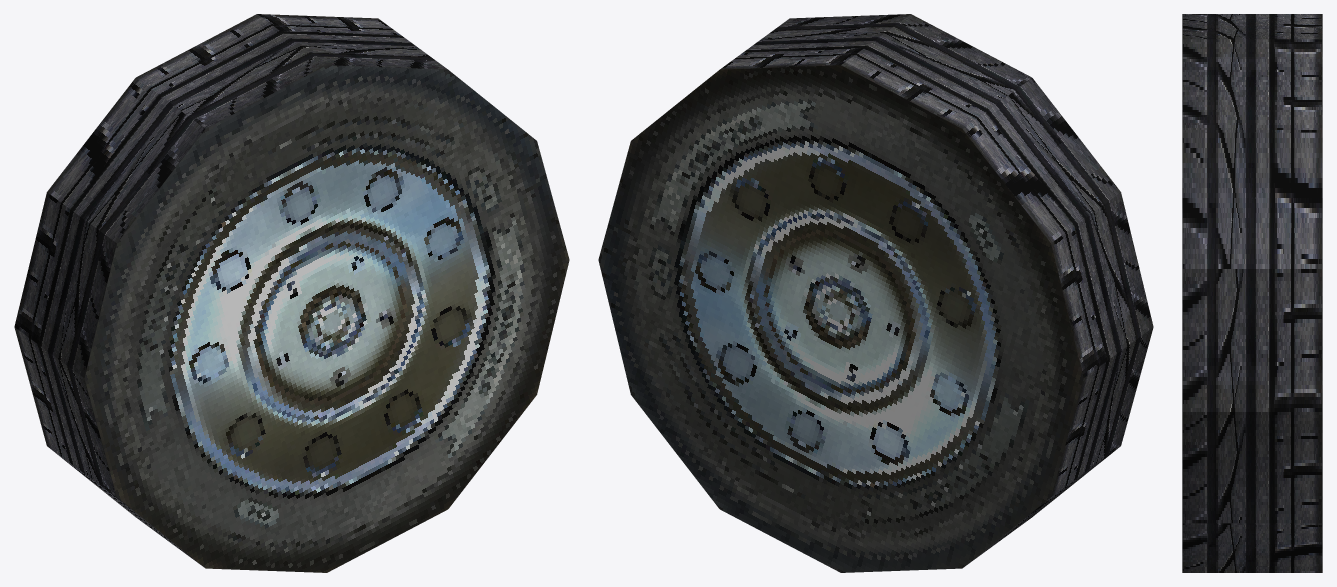
Rendered from car_tire.glb.
3 views of the same model, side by side, from view 1: azimuth 30°, elevation 25°; view 2: azimuth 150°, elevation 25°; view 3: azimuth 270°, elevation 25° (orthographic).
Parts seen in each view (by area): view 1: Cylinder; view 2: Cylinder; view 3: Cylinder.
Part boxes in pixels (<box>): Cylinder: <box>14,14,569,572</box>; Cylinder: <box>598,14,1153,572</box>; Cylinder: <box>1182,14,1322,572</box>.
Size of the model in its own units: 2 by 2 by 0.5.
2 materials, 2 textured.
